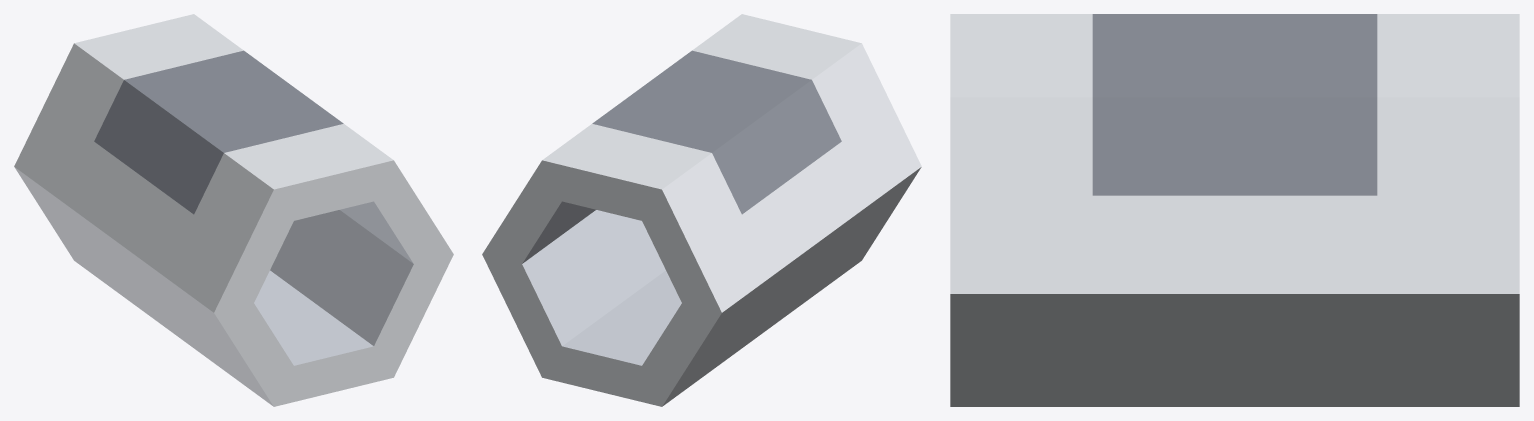
Rendered from pipe_straight.glb.
3 renders of one model, left to right at view 1: azimuth 30°, elevation 25°; view 2: azimuth 150°, elevation 25°; view 3: azimuth 270°, elevation 25°, orthographic. The views are drawn at different scales.
Parts seen in each view (by area): view 1: pipe_straight; view 2: pipe_straight; view 3: pipe_straight.
Boxes of the visible parts, box(x1,y1,x2,y2) form: pipe_straight: box(14, 14, 453, 406); pipe_straight: box(482, 14, 921, 406); pipe_straight: box(950, 14, 1519, 406).
Size of the model in its own units: 0.6928 by 0.6 by 1.
1 material, 1 textured.
